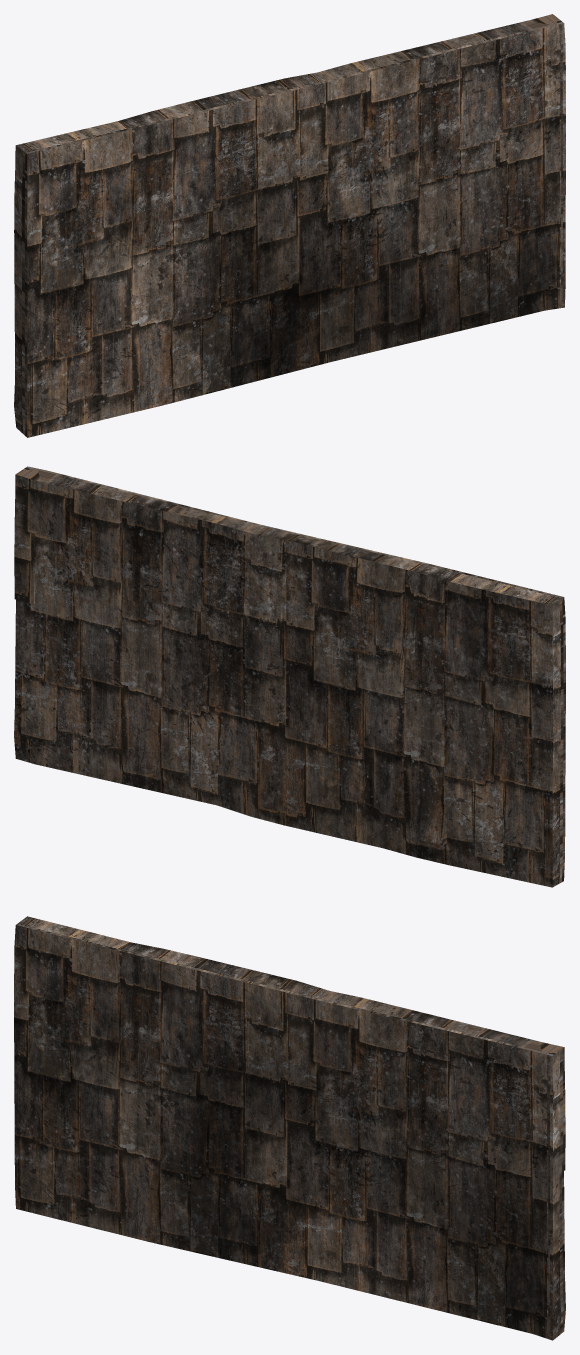
Rendered from asset_techo_low.fbx.
3 views of the same model, one above another, from view 1: azimuth 30°, elevation 25°; view 2: azimuth 150°, elevation 25°; view 3: azimuth 330°, elevation 25° (orthographic).
Parts seen in each view (by area): view 1: base_pared_3x006; view 2: base_pared_3x006; view 3: base_pared_3x006.
Part boxes in pixels (<box>): base_pared_3x006: <box>14,14,565,437</box>; base_pared_3x006: <box>14,466,565,887</box>; base_pared_3x006: <box>14,916,565,1340</box>.
Size of the model in its own units: 305 by 17.17 by 154.
